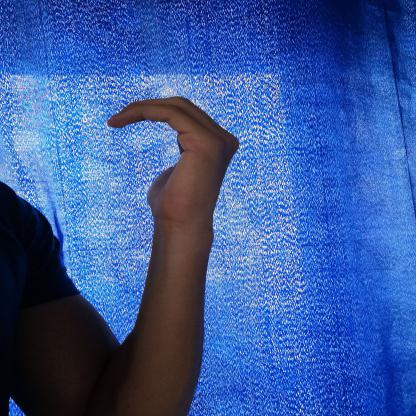HAA: (94, 88, 253, 235)
